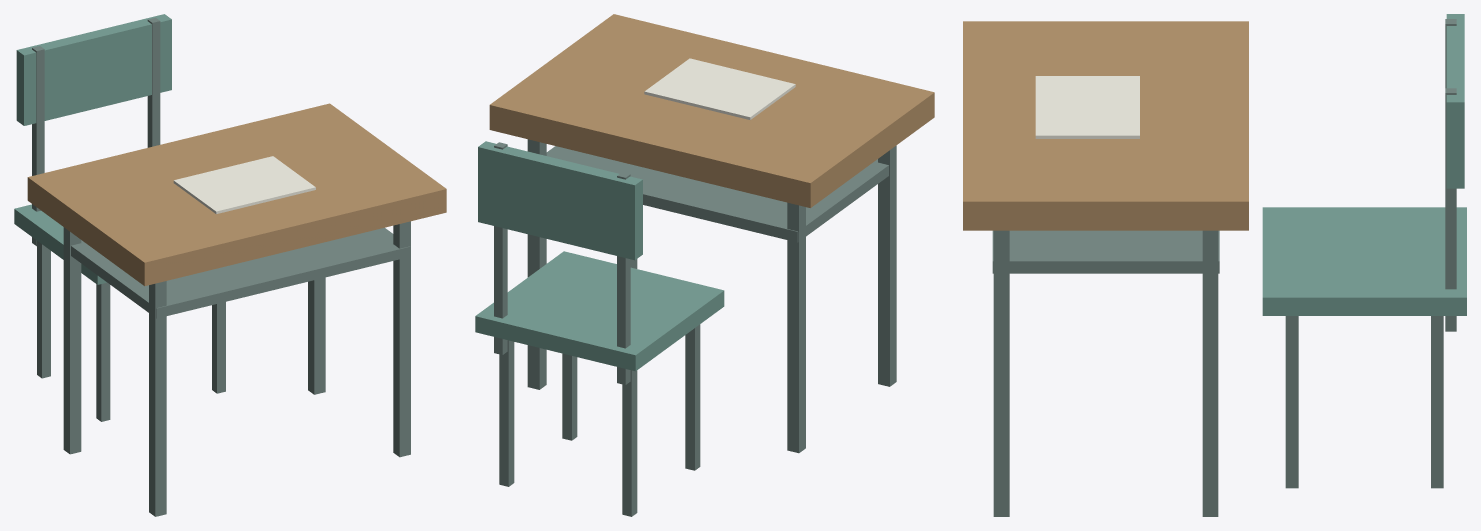
Rendered from desk.glb.
The picture shows the model from 3 angles, left to right: view 1: azimuth 30°, elevation 25°; view 2: azimuth 150°, elevation 25°; view 3: azimuth 270°, elevation 25°; orthographic projection. The views are drawn at different scales.
Visible parts, largest first — view 1: Rounded wooden desktop, Chair back, Desk shelf, Note paper, Metal desk leg, Metal desk leg.001, Metal desk leg.002, Chair leg, Metal desk leg.003, Chair leg.001, Chair seat, Chair upright (+2 smaller); view 2: Rounded wooden desktop, Chair seat, Chair back, Desk shelf, Note paper, Metal desk leg.001, Metal desk leg, Chair leg, Chair leg.001, Chair leg.003, Metal desk leg.003, Chair upright (+2 smaller); view 3: Rounded wooden desktop, Chair seat, Desk shelf, Note paper, Metal desk leg.002, Metal desk leg.003, Chair back, Chair leg.002, Chair leg.003, Chair upright.001.
Part boxes in pixels (left/top/right/bottom): Rounded wooden desktop: left=27, top=103, right=446, bottom=286; Chair back: left=16, top=14, right=171, bottom=125; Desk shelf: left=71, top=227, right=410, bottom=318; Note paper: left=173, top=156, right=315, bottom=214; Metal desk leg: left=149, top=281, right=166, bottom=516; Metal desk leg.001: left=63, top=227, right=81, bottom=454; Metal desk leg.002: left=393, top=221, right=410, bottom=457; Chair leg: left=96, top=282, right=110, bottom=421; Metal desk leg.003: left=308, top=277, right=325, bottom=394; Chair leg.001: left=37, top=241, right=50, bottom=378; Chair seat: left=14, top=204, right=106, bottom=284; Chair upright: left=32, top=46, right=44, bottom=246; Rounded wooden desktop: left=489, top=14, right=934, bottom=207; Chair seat: left=475, top=251, right=724, bottom=371; Chair back: left=478, top=141, right=642, bottom=260; Desk shelf: left=546, top=146, right=888, bottom=242; Note paper: left=644, top=58, right=795, bottom=119; Metal desk leg.001: left=787, top=202, right=805, bottom=453; Metal desk leg: left=878, top=145, right=896, bottom=386; Chair leg: left=685, top=324, right=700, bottom=470; Chair leg.001: left=622, top=370, right=637, bottom=516; Chair leg.003: left=499, top=340, right=514, bottom=486; Metal desk leg.003: left=527, top=139, right=546, bottom=389; Chair upright: left=617, top=172, right=630, bottom=384; Rounded wooden desktop: left=963, top=21, right=1248, bottom=230; Chair seat: left=1262, top=207, right=1466, bottom=315; Desk shelf: left=992, top=230, right=1219, bottom=273; Note paper: left=1035, top=76, right=1139, bottom=138; Metal desk leg.002: left=993, top=230, right=1009, bottom=516; Metal desk leg.003: left=1202, top=230, right=1218, bottom=516; Chair back: left=1446, top=14, right=1464, bottom=188; Chair leg.002: left=1285, top=316, right=1298, bottom=488; Chair leg.003: left=1431, top=316, right=1443, bottom=488; Chair upright.001: left=1445, top=88, right=1456, bottom=331.
Bounding box in the file's own units: 0.94 × 0.96 × 1.11.
